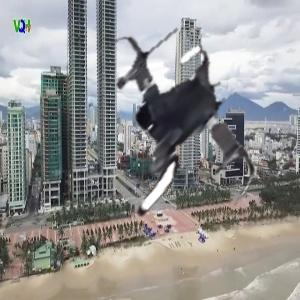drone: (52, 22, 273, 243)
